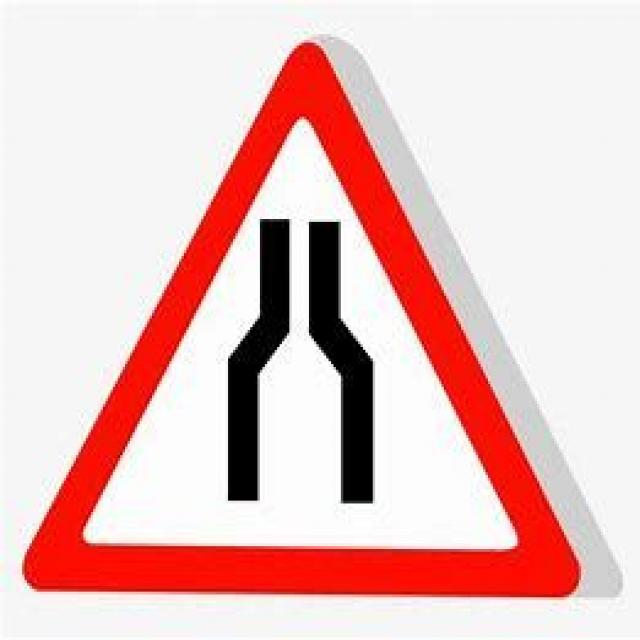NARROW_ROAD_AHEAD: (19, 37, 578, 597)
